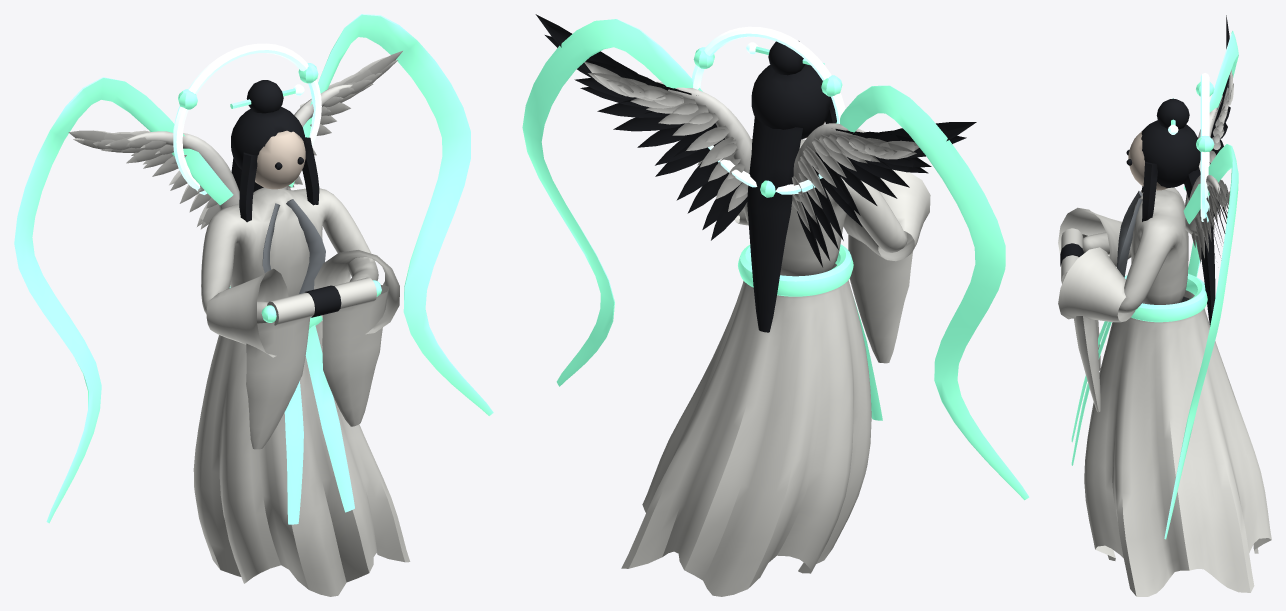
Rendered from ink_crane.glb.
3 views of the same model, side by side, from view 1: azimuth 30°, elevation 25°; view 2: azimuth 150°, elevation 25°; view 3: azimuth 270°, elevation 25° (orthographic). The views are drawn at different scales.
Visible parts, largest first — view 1: body, wing_L_a, spin_z_halo, wing_R_a; view 2: body, wing_R_a, wing_L_a, spin_z_halo; view 3: body, wing_R_a, spin_z_halo, wing_L_a.
Boxes of the visible parts, x1=… form: body: x1=14, y1=14, x2=493, y2=596; wing_L_a: x1=68, y1=130, x2=239, y2=229; spin_z_halo: x1=173, y1=43, x2=321, y2=194; wing_R_a: x1=283, y1=51, x2=402, y2=190; body: x1=522, y1=19, x2=1029, y2=596; wing_R_a: x1=535, y1=14, x2=752, y2=240; wing_L_a: x1=792, y1=122, x2=976, y2=267; spin_z_halo: x1=691, y1=26, x2=845, y2=197; body: x1=1058, y1=31, x2=1271, y2=596; wing_R_a: x1=1184, y1=175, x2=1229, y2=263; spin_z_halo: x1=1196, y1=73, x2=1214, y2=222; wing_L_a: x1=1185, y1=15, x2=1233, y2=216.
Size of the model in its own units: 1.77 by 1.93 by 0.8051.
